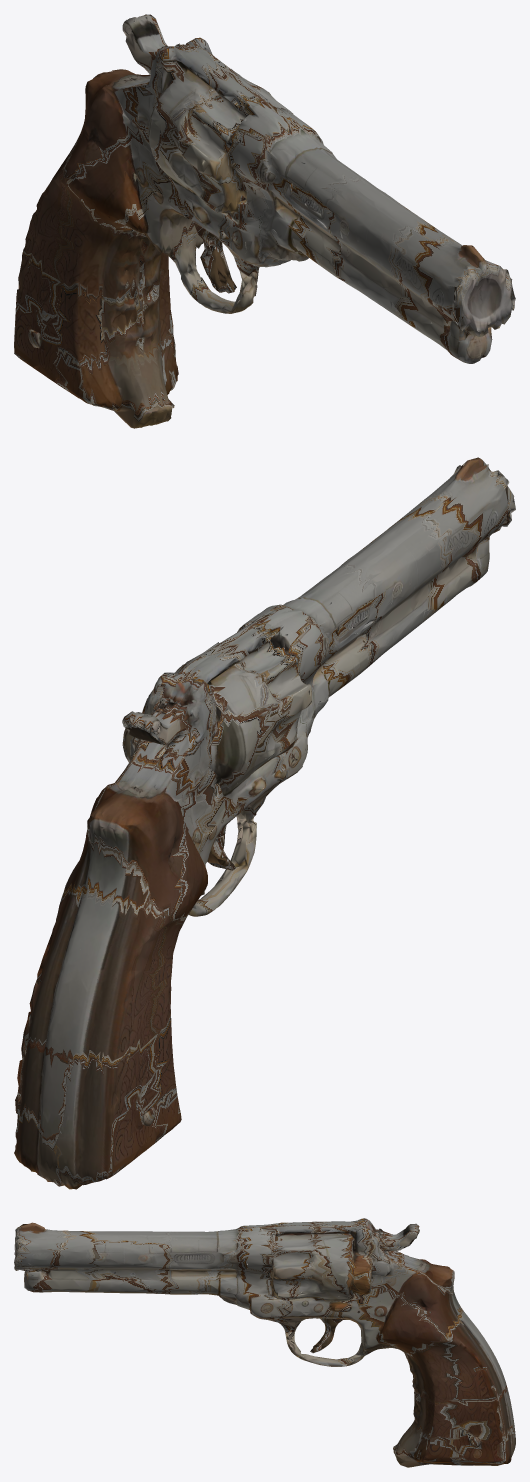
Rendered from ماغنوم.glb.
3 renders of one model, top to bottom at view 1: azimuth 30°, elevation 25°; view 2: azimuth 150°, elevation 25°; view 3: azimuth 270°, elevation 25°, orthographic. The views are drawn at different scales.
Parts seen in each view (by area): view 1: tripo_node_73e2f69f-4539-421c-8b35-4d5a3f339c35; view 2: tripo_node_73e2f69f-4539-421c-8b35-4d5a3f339c35; view 3: tripo_node_73e2f69f-4539-421c-8b35-4d5a3f339c35.
Boxes of the visible parts, left/top/right/bottom form: tripo_node_73e2f69f-4539-421c-8b35-4d5a3f339c35: left=14, top=14, right=515, bottom=428; tripo_node_73e2f69f-4539-421c-8b35-4d5a3f339c35: left=14, top=457, right=515, bottom=1189; tripo_node_73e2f69f-4539-421c-8b35-4d5a3f339c35: left=14, top=1218, right=515, bottom=1467.
Size of the model in its own units: 0.1589 by 0.5319 by 1.
Materials: 1 (1 with a texture image).
